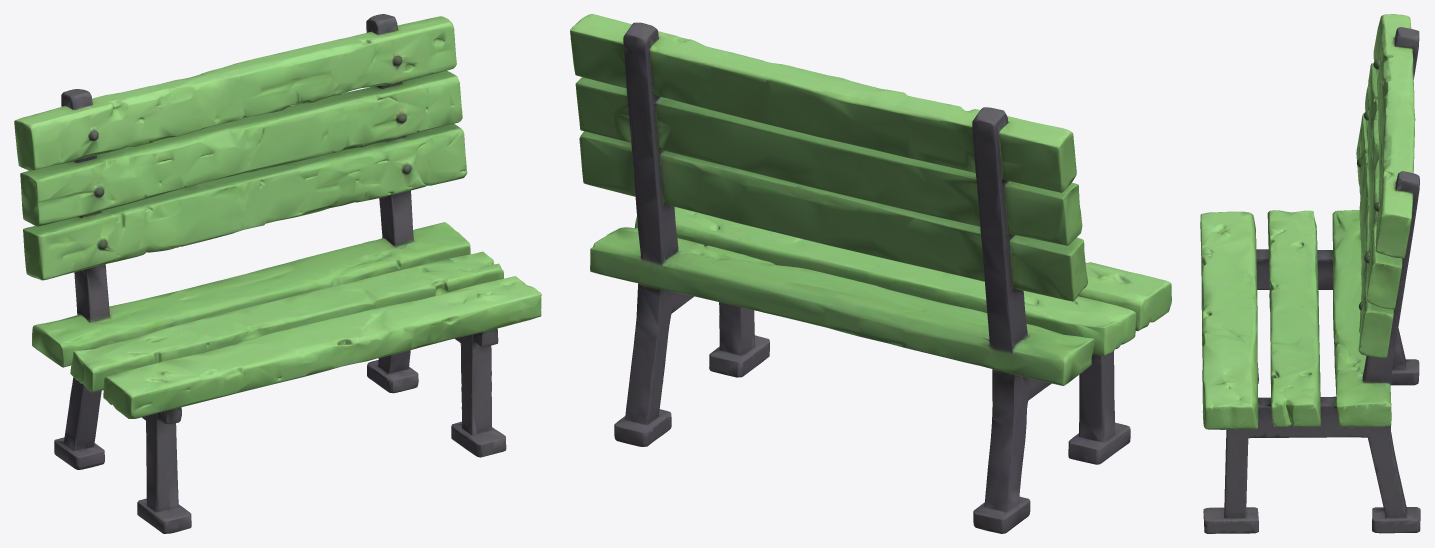
The model's file is bench.glb.
3 renders of one model, left to right at view 1: azimuth 30°, elevation 25°; view 2: azimuth 150°, elevation 25°; view 3: azimuth 270°, elevation 25°, orthographic. The views are drawn at different scales.
Visible parts, largest first — view 1: tripo_node_7f2fe044-af20-49c5-9a59-0a30e238a899; view 2: tripo_node_7f2fe044-af20-49c5-9a59-0a30e238a899; view 3: tripo_node_7f2fe044-af20-49c5-9a59-0a30e238a899.
Boxes of the visible parts, x1,y1,x2,y2 form: tripo_node_7f2fe044-af20-49c5-9a59-0a30e238a899: (14, 14, 541, 533); tripo_node_7f2fe044-af20-49c5-9a59-0a30e238a899: (570, 14, 1171, 533); tripo_node_7f2fe044-af20-49c5-9a59-0a30e238a899: (1200, 14, 1420, 533).
Size of the model in its own units: 1 by 0.805 by 0.4588.
1 material, 1 textured.
